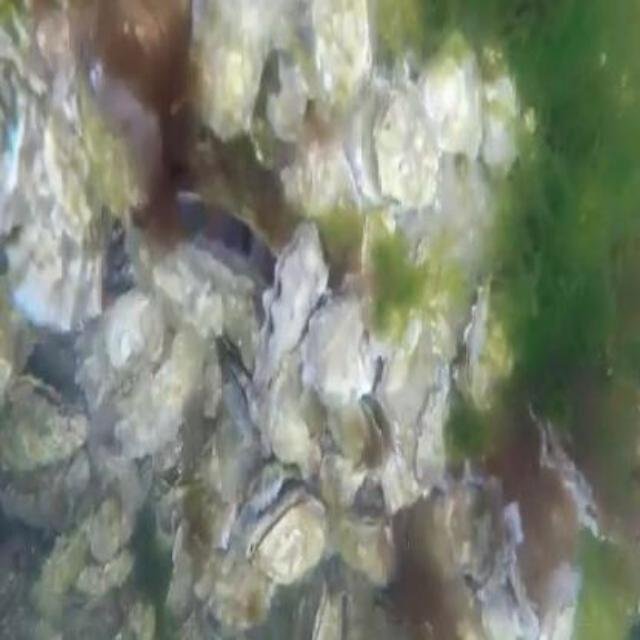Oyster-Closed: (0, 0, 106, 324), (81, 65, 164, 227), (116, 327, 208, 459), (256, 220, 329, 384), (532, 405, 616, 540), (191, 0, 272, 135), (176, 423, 263, 545), (413, 35, 483, 156), (375, 89, 438, 205), (306, 293, 367, 411), (282, 143, 366, 221), (313, 0, 373, 99), (413, 364, 457, 491), (327, 512, 399, 587), (108, 291, 166, 372), (481, 76, 522, 173), (535, 559, 583, 638), (461, 278, 492, 398), (317, 453, 369, 512), (228, 360, 263, 436), (76, 551, 135, 596), (92, 495, 122, 565), (164, 554, 196, 619), (313, 579, 345, 638), (248, 463, 282, 512)
Oyster-Open: (161, 175, 279, 302), (0, 374, 90, 469), (247, 487, 328, 585), (195, 551, 275, 638), (271, 404, 320, 482), (359, 395, 393, 468)
